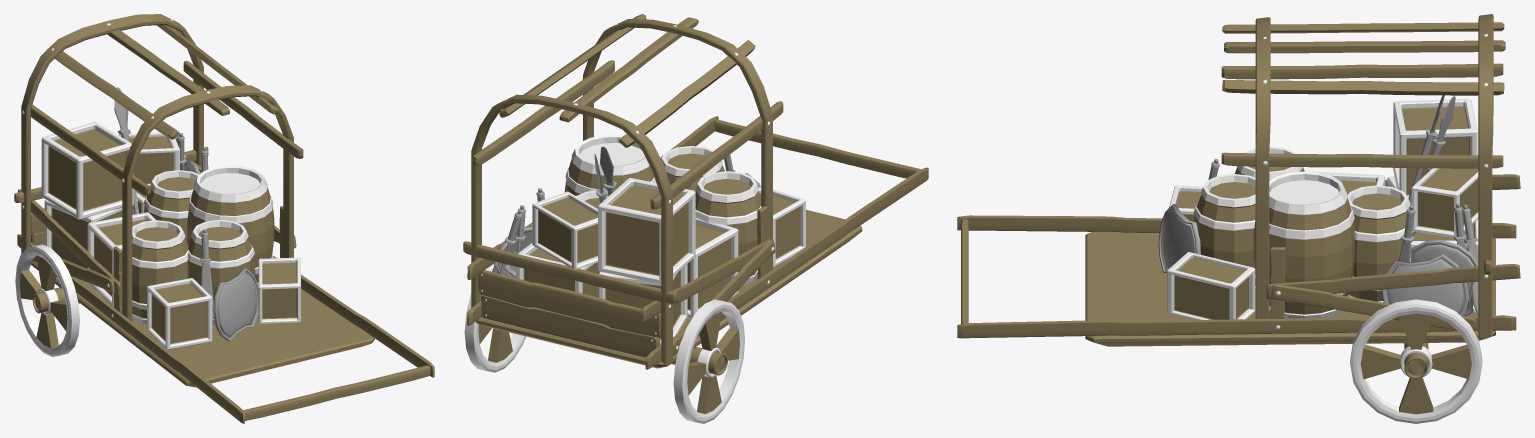
The model's file is Waggon_W_lode.fbx.
3 renders of one model, left to right at view 1: azimuth 30°, elevation 25°; view 2: azimuth 150°, elevation 25°; view 3: azimuth 270°, elevation 25°, orthographic. The views are drawn at different scales.
Visible parts, largest first — view 1: Waggon, pCube4, SM_Prop_Barrel_02, Wheel_R, pCube7, SM_Prop_Barrel_03, SM_Prop_Barrel_04, pCube6, Shild2, SM_Prop_Barrel_01, pCube2, pCube1 (+4 smaller); view 2: Waggon, pCube4, Wheel_R, pCube5, SM_Prop_Barrel_03, SM_Prop_Barrel_02, pCube2, pCube7, Wheel_L, pCube1, pCube3, SM_Prop_Barrel_04 (+3 smaller); view 3: Waggon, SM_Prop_Barrel_02, Wheel_L, pCube6, SM_Prop_Barrel_04, SM_Prop_Barrel_01, pCube4, pCube5, Shild1, Shild2, Shild, pCube7 (+8 smaller).
Boxes of the visible parts, x1=… form: Waggon: x1=14, y1=14, x2=434, y2=423; pCube4: x1=41, y1=121, x2=133, y2=219; SM_Prop_Barrel_02: x1=187, y1=165, x2=274, y2=285; Wheel_R: x1=15, y1=244, x2=79, y2=356; pCube7: x1=147, y1=278, x2=212, y2=349; SM_Prop_Barrel_03: x1=132, y1=220, x2=188, y2=324; SM_Prop_Barrel_04: x1=188, y1=220, x2=255, y2=324; pCube6: x1=258, y1=257, x2=300, y2=323; Shild2: x1=213, y1=268, x2=258, y2=341; SM_Prop_Barrel_01: x1=143, y1=170, x2=198, y2=242; pCube2: x1=87, y1=212, x2=156, y2=306; pCube1: x1=44, y1=199, x2=137, y2=268; Waggon: x1=463, y1=14, x2=928, y2=369; pCube4: x1=598, y1=178, x2=695, y2=283; Wheel_R: x1=673, y1=299, x2=744, y2=423; pCube5: x1=532, y1=191, x2=597, y2=269; SM_Prop_Barrel_03: x1=695, y1=171, x2=761, y2=285; SM_Prop_Barrel_02: x1=564, y1=135, x2=656, y2=195; pCube2: x1=687, y1=217, x2=738, y2=318; pCube7: x1=758, y1=186, x2=805, y2=267; Wheel_L: x1=464, y1=264, x2=525, y2=372; pCube1: x1=598, y1=264, x2=687, y2=345; pCube3: x1=516, y1=243, x2=599, y2=297; SM_Prop_Barrel_04: x1=661, y1=146, x2=724, y2=191; Waggon: x1=957, y1=14, x2=1520, y2=346; SM_Prop_Barrel_02: x1=1253, y1=171, x2=1354, y2=318; Wheel_L: x1=1350, y1=299, x2=1482, y2=423; pCube6: x1=1167, y1=252, x2=1255, y2=319; SM_Prop_Barrel_04: x1=1193, y1=174, x2=1255, y2=292; SM_Prop_Barrel_01: x1=1348, y1=185, x2=1415, y2=302; pCube4: x1=1393, y1=98, x2=1477, y2=197; pCube5: x1=1411, y1=168, x2=1478, y2=237; Shild1: x1=1381, y1=254, x2=1469, y2=316; Shild2: x1=1158, y1=204, x2=1200, y2=273; Shild: x1=1411, y1=239, x2=1478, y2=316; pCube7: x1=1169, y1=185, x2=1202, y2=221.
Bounding box in the file's own units: 166 × 212 × 326.
